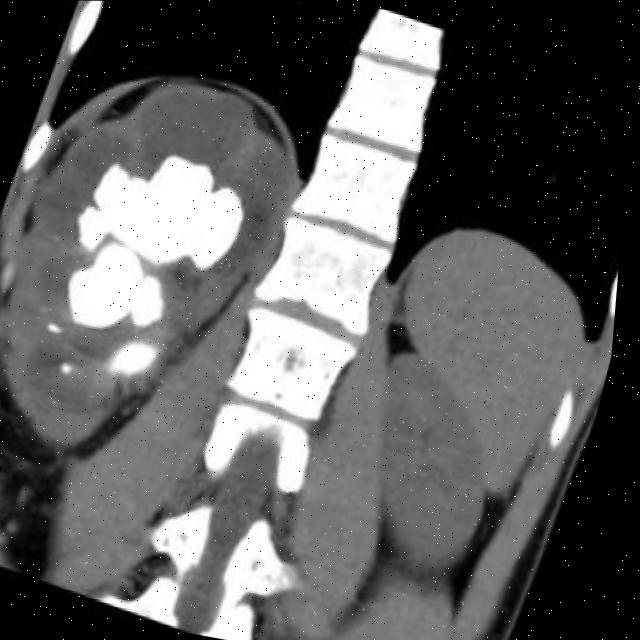Tas_Var: (59, 123, 275, 297), (25, 217, 200, 352), (98, 324, 179, 390), (56, 352, 86, 384), (46, 313, 72, 339), (52, 229, 70, 247), (42, 300, 56, 317)
